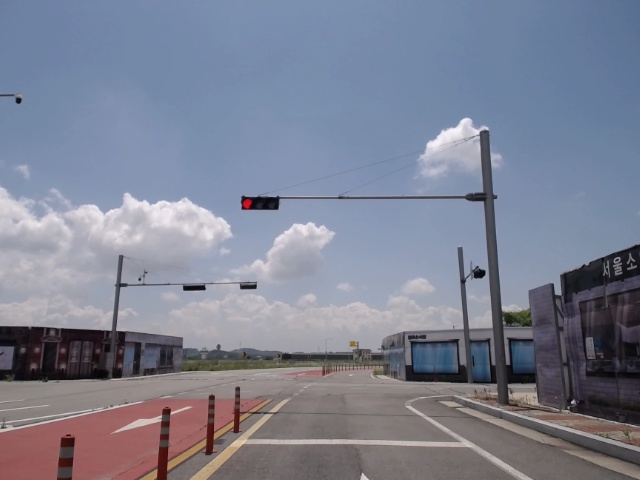red_3: (241, 195, 279, 213)
